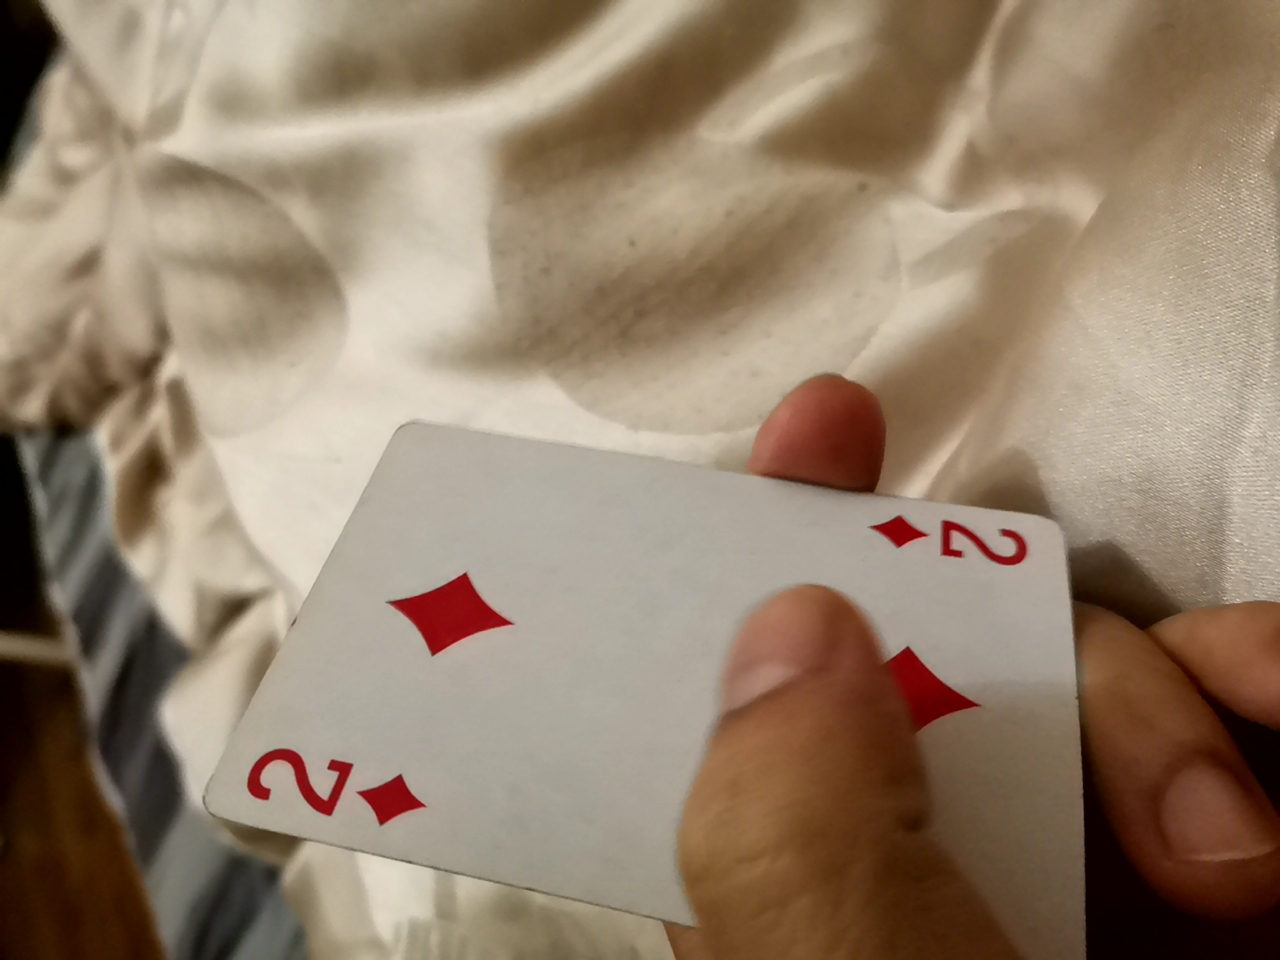fk 2: (178, 344, 1113, 908)
